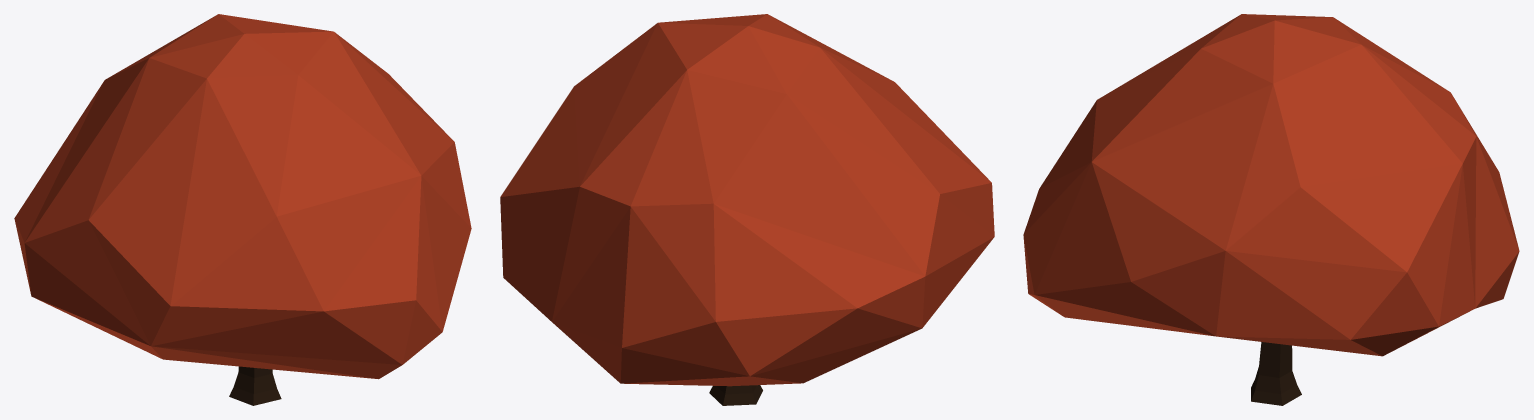
The model's file is tree3.glb.
The picture shows the model from 3 angles, left to right: view 1: azimuth 30°, elevation 25°; view 2: azimuth 150°, elevation 25°; view 3: azimuth 270°, elevation 25°; orthographic projection. The views are drawn at different scales.
Parts seen in each view (by area): view 1: Icosphere.006, Cylinder.001; view 2: Icosphere.006, Cylinder.001; view 3: Icosphere.006, Cylinder.001.
Part boxes in pixels (bbox=[...]): Icosphere.006: bbox=[14, 14, 471, 379]; Cylinder.001: bbox=[229, 366, 281, 405]; Icosphere.006: bbox=[500, 14, 994, 386]; Cylinder.001: bbox=[709, 385, 762, 405]; Icosphere.006: bbox=[1023, 14, 1519, 356]; Cylinder.001: bbox=[1251, 342, 1301, 405].
Bounding box in the file's own units: 20.22 × 17.81 × 21.73.
